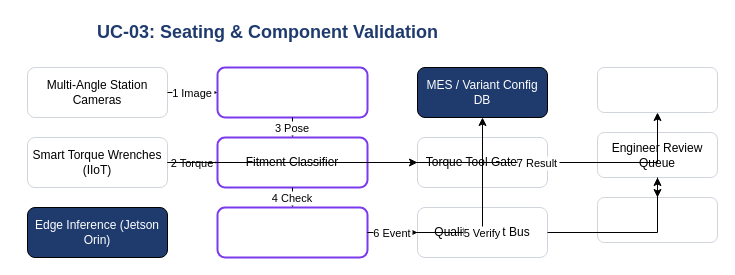
This 735x275 diagram has some shape labels left out. The shapes that lost their labels are listed below. From the top down, each one's box as (x1, y1, x2, y2) in pixels, then its label:
(216, 66, 368, 118): YOLOv8 + Keypoint Head
(596, 66, 718, 112): Operator Tablet Pass/Fail
(216, 206, 368, 258): Variant Rule Engine
(596, 196, 718, 242): Fitment Report
